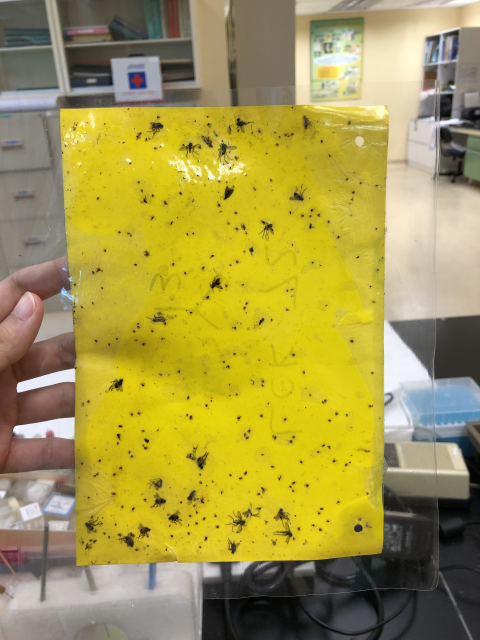DBM: (222, 184, 236, 201), (145, 314, 167, 323), (302, 114, 313, 130)
